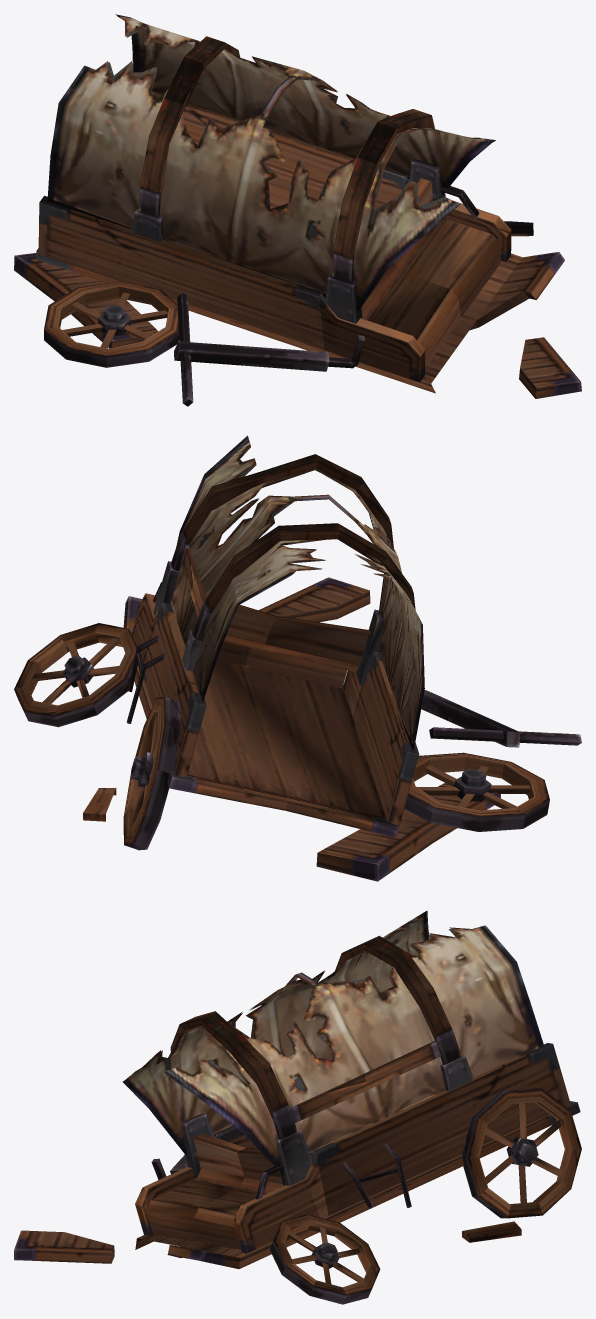
Rendered from 2_YiZhan_HuoMaChe_01.FBX.
3 renders of one model, top to bottom at view 1: azimuth 30°, elevation 25°; view 2: azimuth 150°, elevation 25°; view 3: azimuth 270°, elevation 25°, orthographic. The views are drawn at different scales.
Parts seen in each view (by area): view 1: 2_YiZhan_HuoMaChe_01, 2_YiZhan_HuoMaChe_03, 2_YiZhan_HuoMaChe_04, 2_YiZhan_HuoMaChe_02, 2_YiZhan_HuoMaChe_05; view 2: 2_YiZhan_HuoMaChe_01, 2_YiZhan_HuoMaChe_03, 2_YiZhan_HuoMaChe_02, 2_YiZhan_HuoMaChe_04, 2_YiZhan_HuoMaChe_05; view 3: 2_YiZhan_HuoMaChe_01, 2_YiZhan_HuoMaChe_05.
Part boxes in pixels (<box>): 2_YiZhan_HuoMaChe_01: <box>36,14,564,393</box>; 2_YiZhan_HuoMaChe_03: <box>44,281,179,367</box>; 2_YiZhan_HuoMaChe_04: <box>174,292,364,406</box>; 2_YiZhan_HuoMaChe_02: <box>14,253,158,348</box>; 2_YiZhan_HuoMaChe_05: <box>519,337,581,398</box>; 2_YiZhan_HuoMaChe_01: <box>14,435,424,850</box>; 2_YiZhan_HuoMaChe_03: <box>404,752,549,831</box>; 2_YiZhan_HuoMaChe_02: <box>316,783,500,881</box>; 2_YiZhan_HuoMaChe_04: <box>421,690,581,747</box>; 2_YiZhan_HuoMaChe_05: <box>258,577,370,622</box>; 2_YiZhan_HuoMaChe_01: <box>123,910,581,1304</box>; 2_YiZhan_HuoMaChe_05: <box>14,1230,114,1263</box>.
Size of the model in its own units: 811 by 460 by 905.
